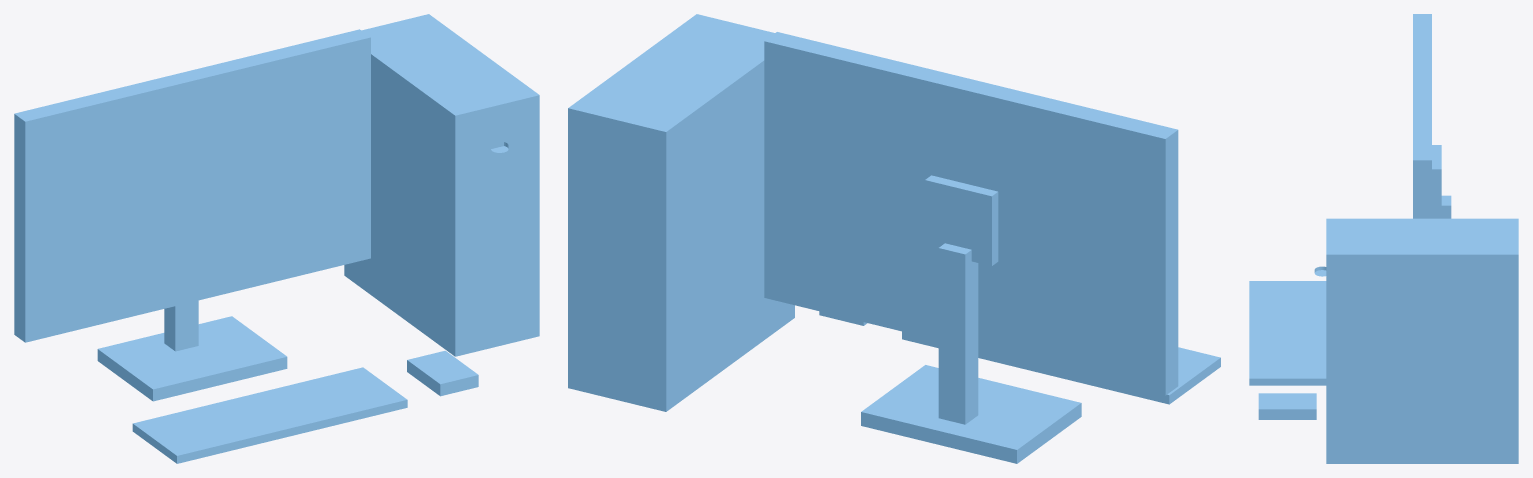
Rendered from workstation.glb.
The picture shows the model from 3 angles, left to right: view 1: azimuth 30°, elevation 25°; view 2: azimuth 150°, elevation 25°; view 3: azimuth 270°, elevation 25°; orthographic projection. The views are drawn at different scales.
Parts seen in each view (by area): view 1: CyberDomeAsset; view 2: CyberDomeAsset; view 3: CyberDomeAsset.
Part boxes in pixels (box(x1,y1,x2,y2)): CyberDomeAsset: box(14, 14, 539, 463); CyberDomeAsset: box(568, 14, 1220, 463); CyberDomeAsset: box(1249, 14, 1518, 463).
Bounding box in the file's own units: 1.21 × 0.725 × 0.7.
